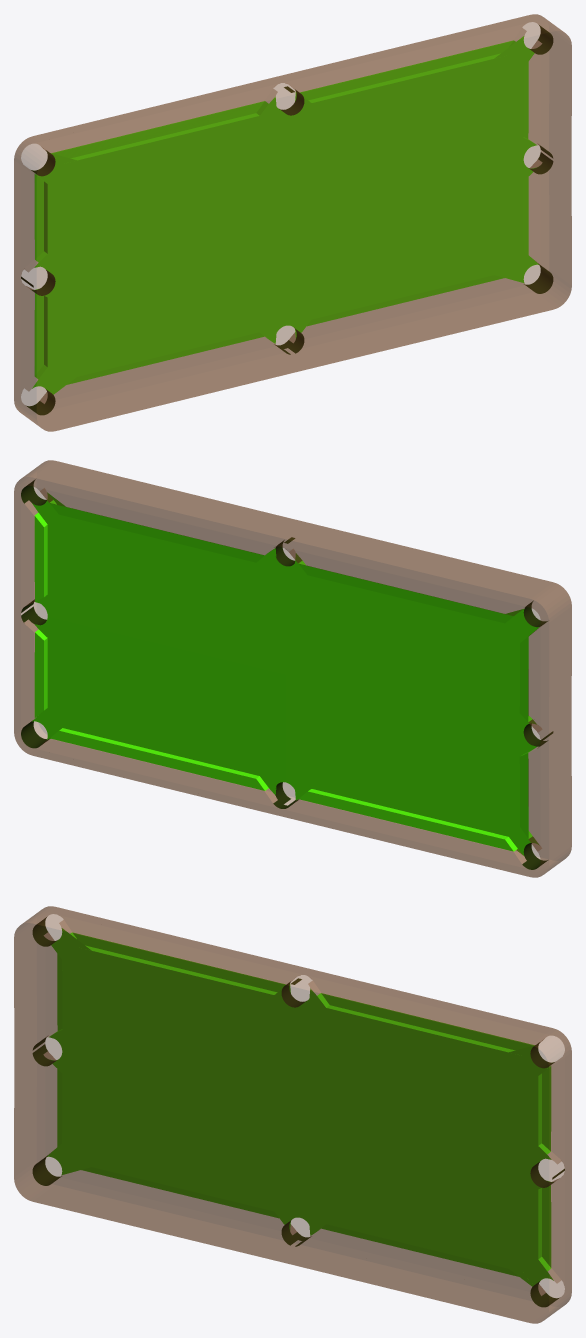
The model's file is Billiard_Table_10_21.fbx.
3 views of the same model, one above another, from view 1: azimuth 30°, elevation 25°; view 2: azimuth 150°, elevation 25°; view 3: azimuth 330°, elevation 25° (orthographic).
Visible parts, largest first — view 1: base; view 2: base; view 3: base.
Boxes of the visible parts, left/top/right/bottom form: base: left=14, top=14, right=571, bottom=431; base: left=14, top=460, right=571, bottom=877; base: left=14, top=906, right=571, bottom=1323.
Bounding box in the file's own units: 6363 × 3162 × 484.
